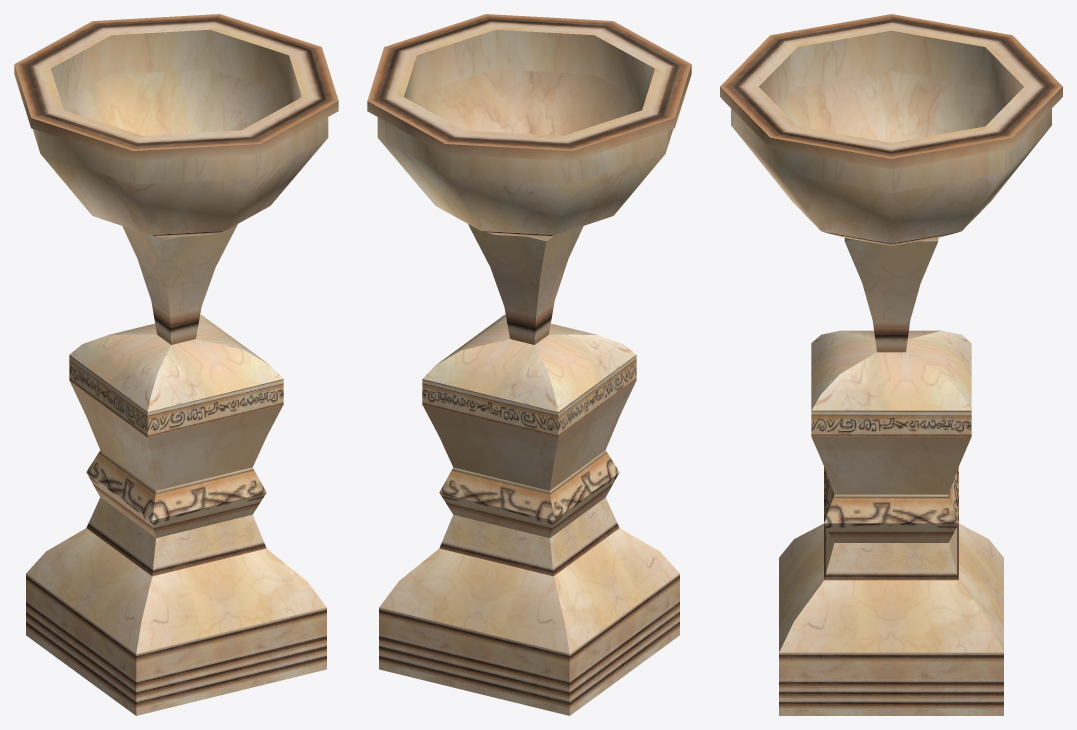
Rendered from parkPillar.fbx.
3 views of the same model, side by side, from view 1: azimuth 30°, elevation 25°; view 2: azimuth 150°, elevation 25°; view 3: azimuth 270°, elevation 25° (orthographic). The views are drawn at different scales.
Parts seen in each view (by area): view 1: Cube; view 2: Cube; view 3: Cube.
Boxes of the visible parts, x1=… form: Cube: x1=14, y1=14, x2=338, y2=715; Cube: x1=367, y1=14, x2=691, y2=715; Cube: x1=720, y1=14, x2=1062, y2=715.
Bounding box in the file's own units: 166 × 311 × 166.
